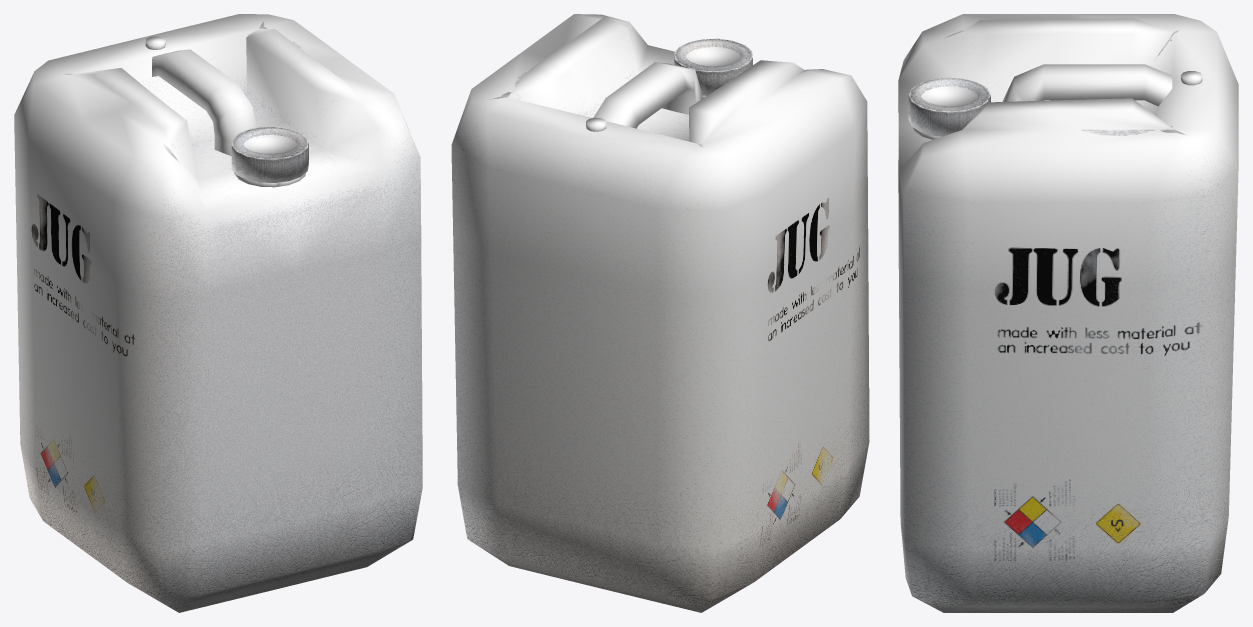
File: jug.fbx
3 renders of one model, left to right at view 1: azimuth 30°, elevation 25°; view 2: azimuth 150°, elevation 25°; view 3: azimuth 270°, elevation 25°, orthographic. The views are drawn at different scales.
Parts seen in each view (by area): view 1: Cube.001; view 2: Cube.001; view 3: Cube.001.
Boxes of the visible parts, box(x1,y1,x2,y2) form: Cube.001: box(14, 14, 422, 612); Cube.001: box(451, 14, 869, 612); Cube.001: box(898, 14, 1238, 612).
Bounding box in the file's own units: 13.27 × 20.26 × 12.52.
Materials: 1 (1 with a texture image).
